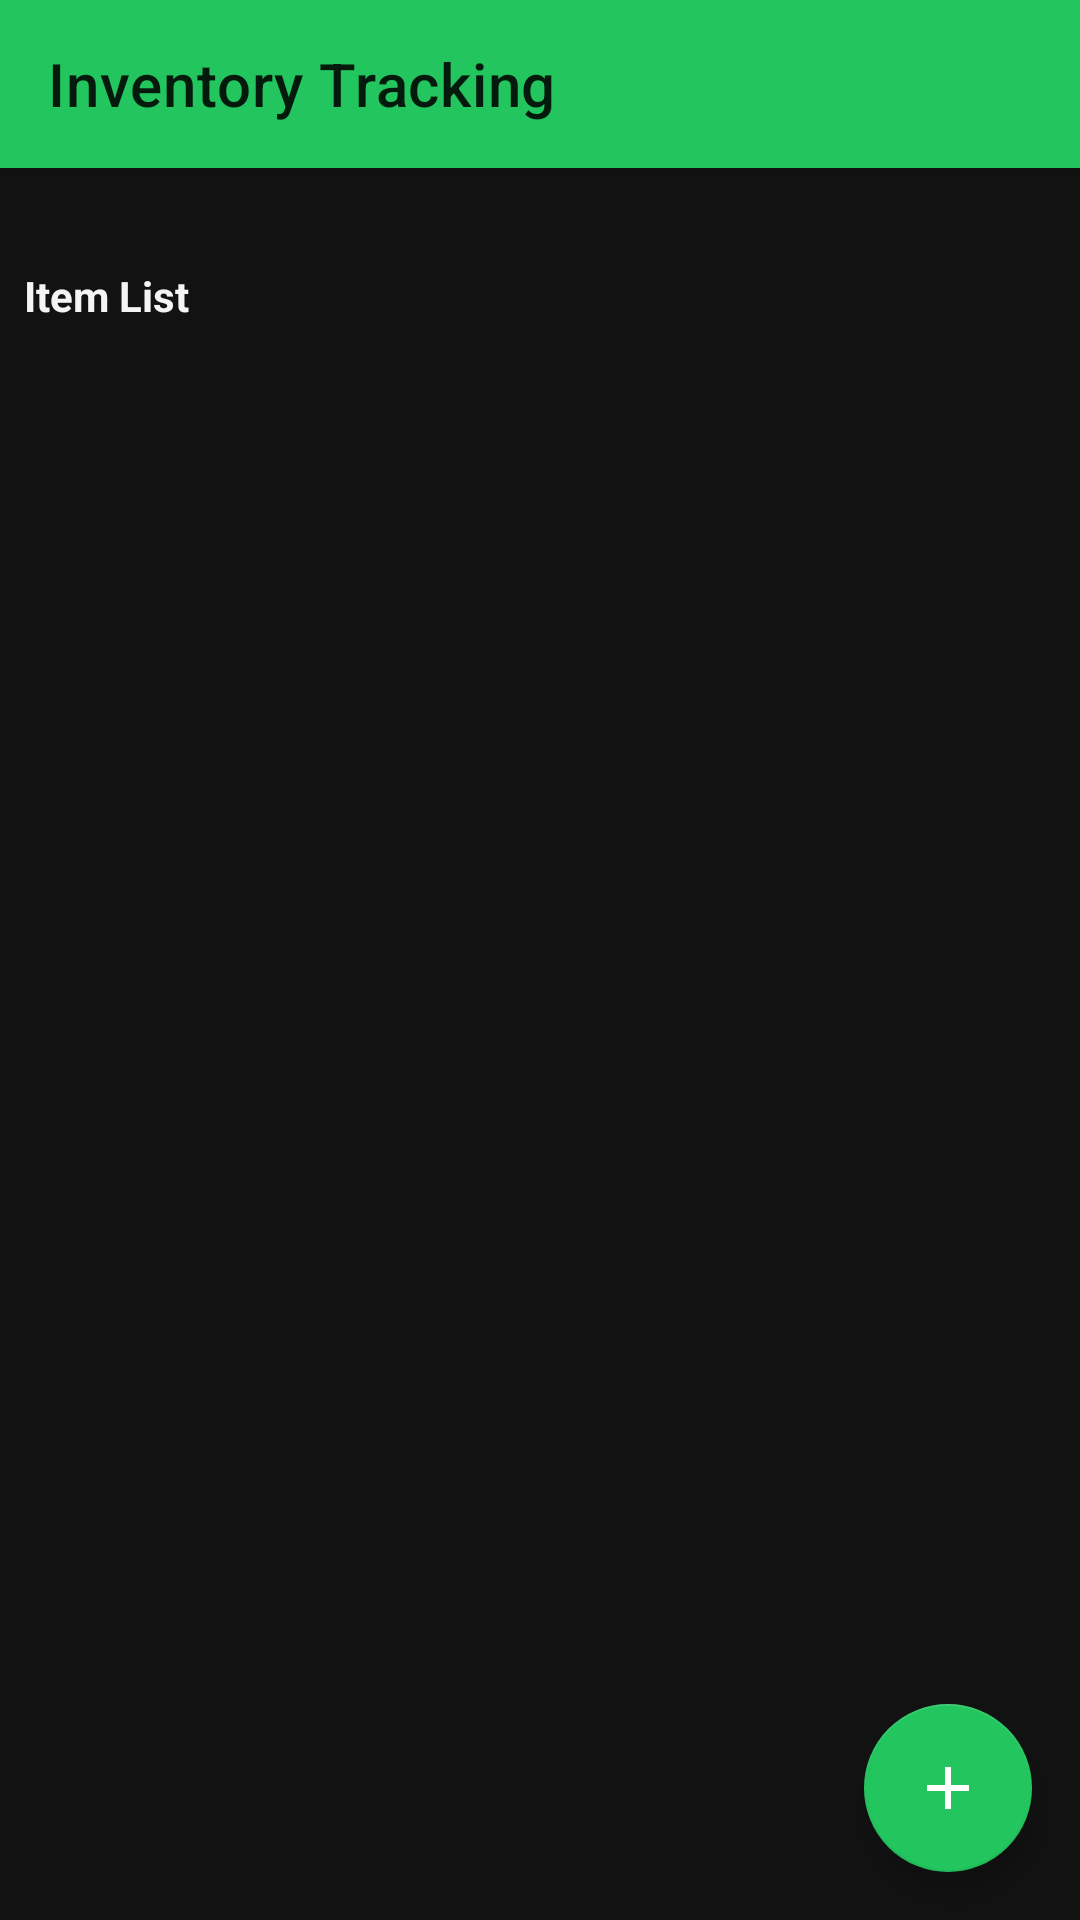

Screen size 1080 × 1920. Icon name, then its box in pixels as (x1, y1, x2, y2):
Add Item: (864, 1704, 1032, 1872)
